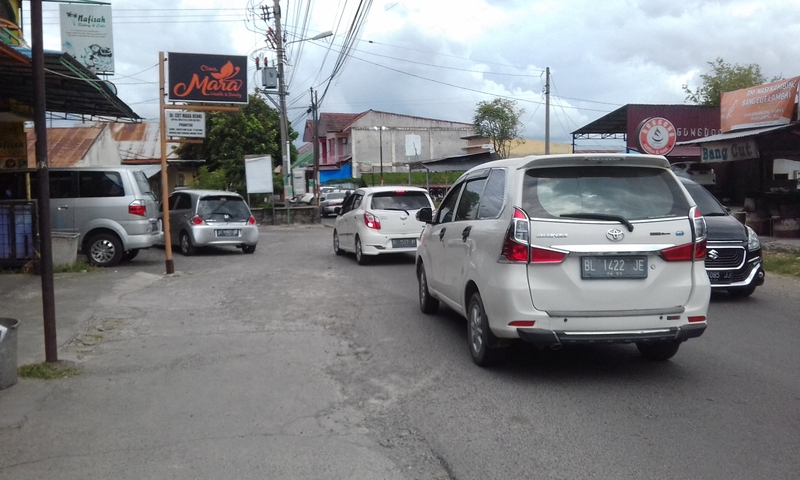car: (414, 151, 712, 381), (2, 163, 164, 280), (669, 163, 770, 304), (331, 181, 441, 268), (158, 186, 262, 257)
